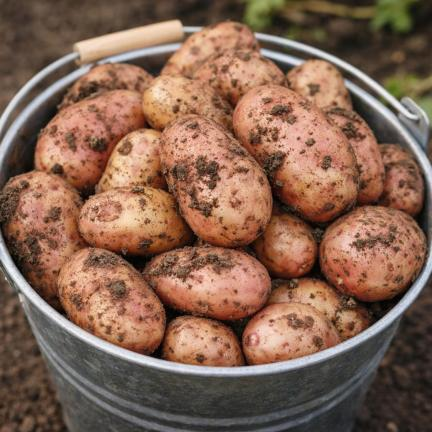potato: (234, 85, 359, 222), (159, 115, 272, 247), (0, 171, 87, 310), (35, 90, 146, 194), (58, 248, 165, 355), (319, 206, 426, 301), (143, 247, 270, 320), (79, 186, 193, 256), (266, 278, 369, 339), (243, 302, 342, 364), (323, 107, 385, 204), (193, 48, 287, 106), (251, 201, 318, 278), (142, 74, 233, 130), (161, 22, 258, 74), (95, 129, 167, 193), (59, 63, 153, 110), (161, 315, 244, 366), (286, 59, 352, 110), (378, 144, 424, 216)
